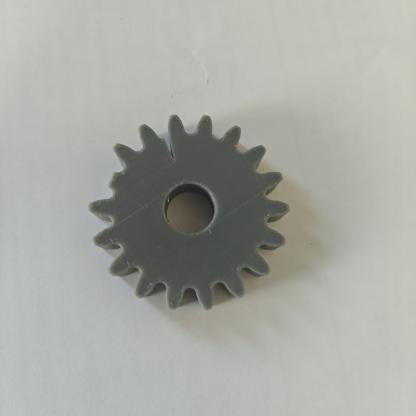defect: (79, 147, 135, 222), (132, 115, 205, 170)
gear: (63, 101, 326, 326)
